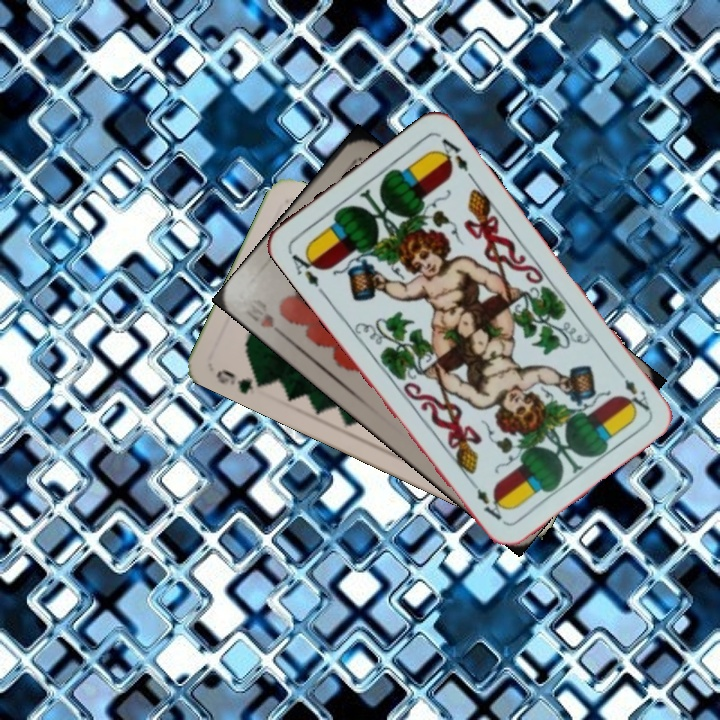EA: (611, 363, 653, 416), (285, 246, 325, 290)
G9: (212, 365, 269, 397)
H10: (255, 309, 290, 342)
